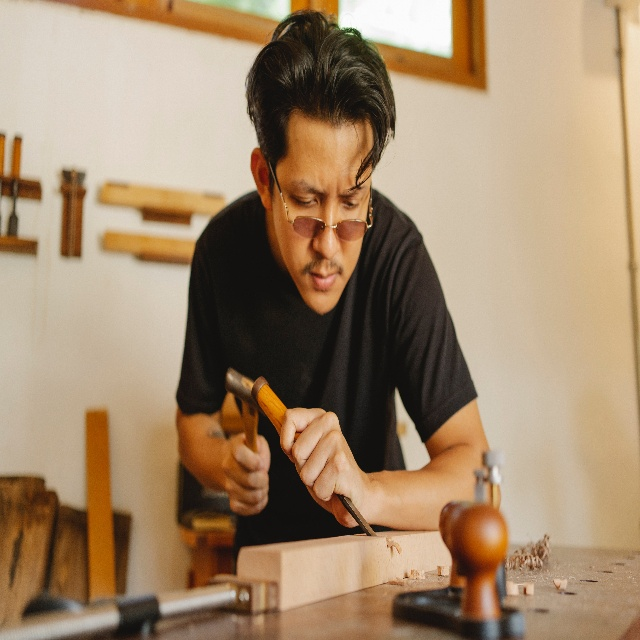Gafas: (267, 158, 373, 242)
Sin_guantes: (279, 407, 365, 529), (221, 431, 271, 516)
